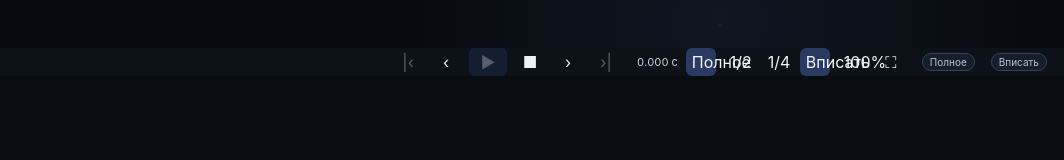
Test case: PreviewPlayer fullscreen transport › reports a blocked fullscreen request in Russian and leaves transport and project intact
What coordinates should you click on to do the following:
click the button named "На весь экран"
I would click on:
 (891, 62)
Its box is [876,48,906,76].
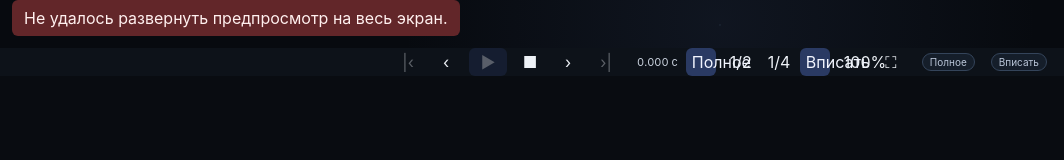
Expected: the message reads "Не удалось развернуть предпросмотр на весь экран.", [24,8,448,28]
